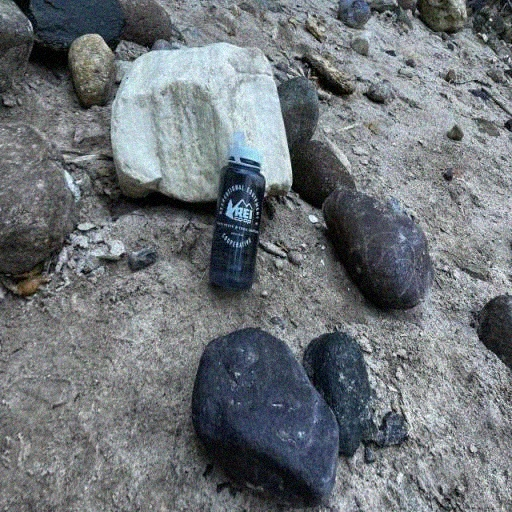bottle: (208, 130, 265, 290)
